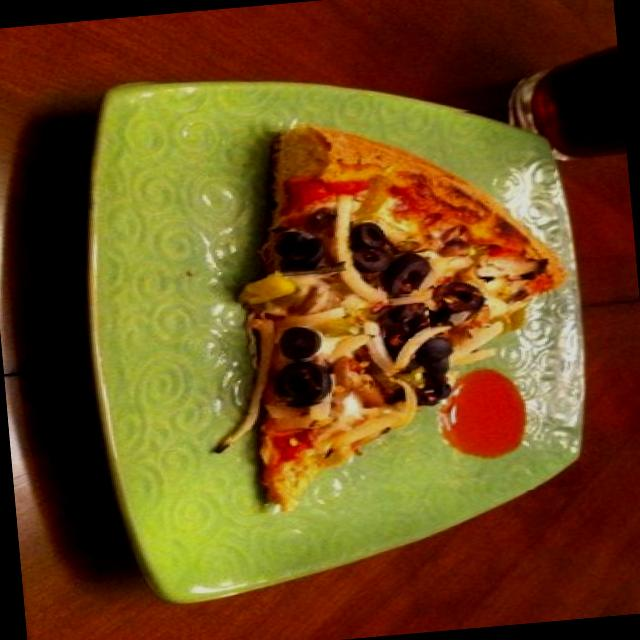Olive: (408, 333, 463, 402), (272, 227, 331, 274), (374, 250, 434, 296), (272, 358, 328, 403), (436, 278, 488, 318), (379, 300, 430, 336), (276, 323, 324, 360), (349, 243, 394, 275), (348, 217, 386, 250)
pizza: (231, 123, 564, 509)
